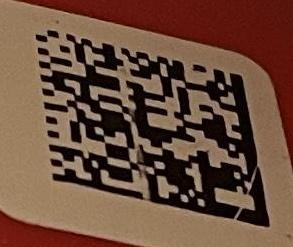datamatrix: (36, 30, 271, 229)
